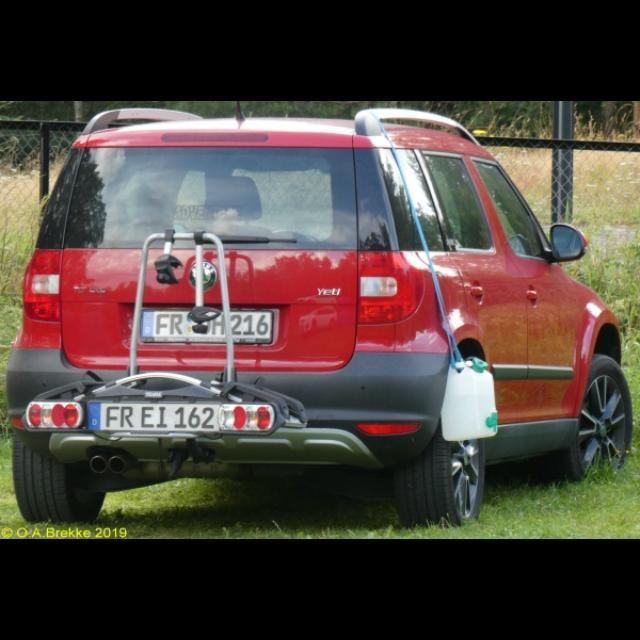license-plates: (88, 403, 219, 432)
